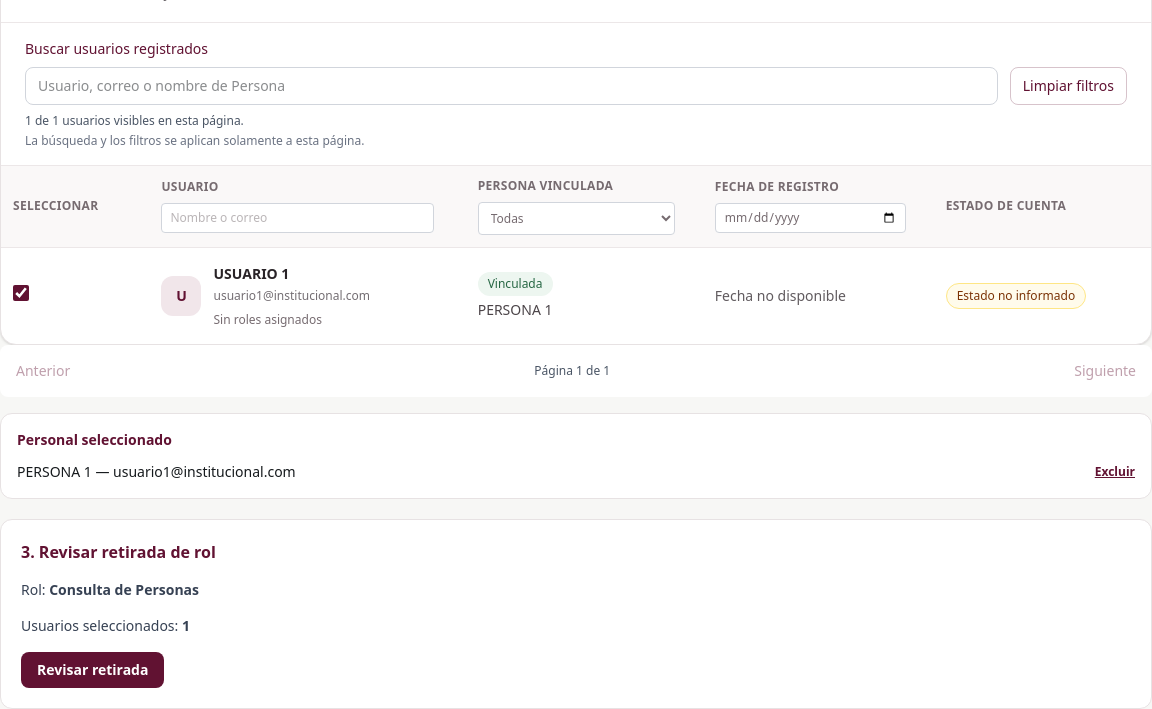
Test: BulkRoleAssignmentPageComponent › abre y cancela la confirmacion administrativa de retirada
The image size is (1152, 709).
(page scrolled)
Click the button with test id "bulk-page-open-removal-review" at (93, 670), box [21,652,164,688]
(page scrolled)
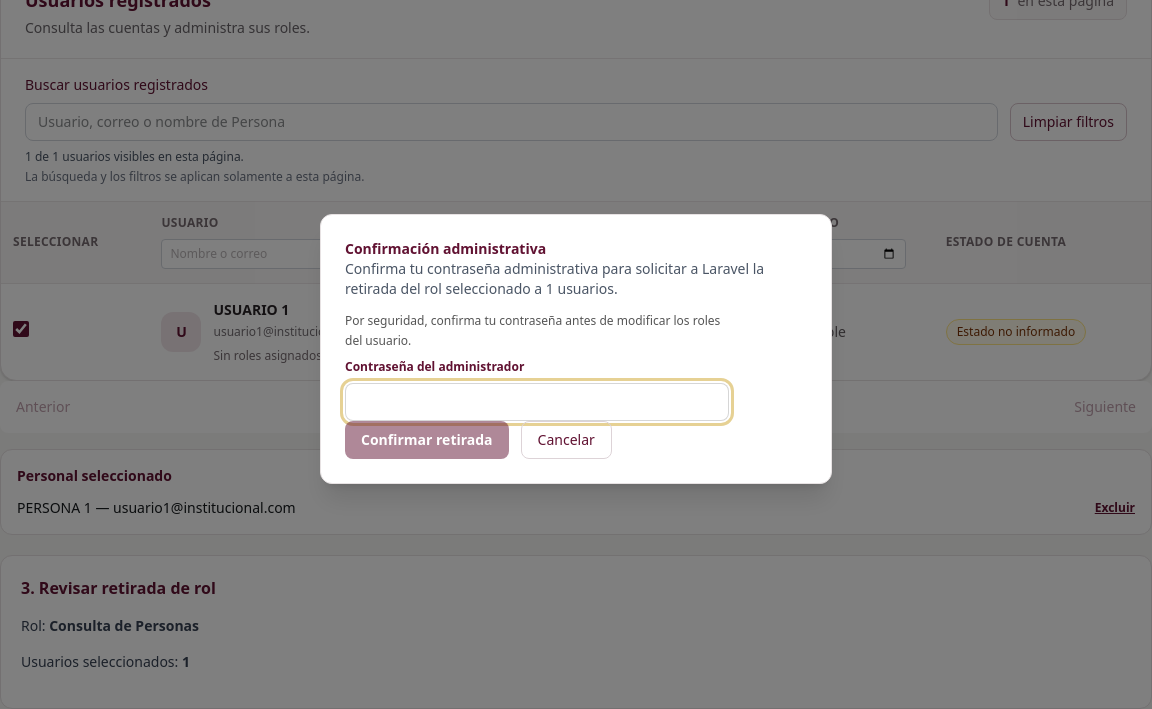
Expected: the dialog with test id "bulk-page-confirmation" is shown, [320,214,832,484]
Expected: the button with test id "bulk-page-cancel-confirmation" is shown
Click the button with test id "bulk-page-cancel-confirmation" at (566, 440), box [521,421,612,459]
(page scrolled)
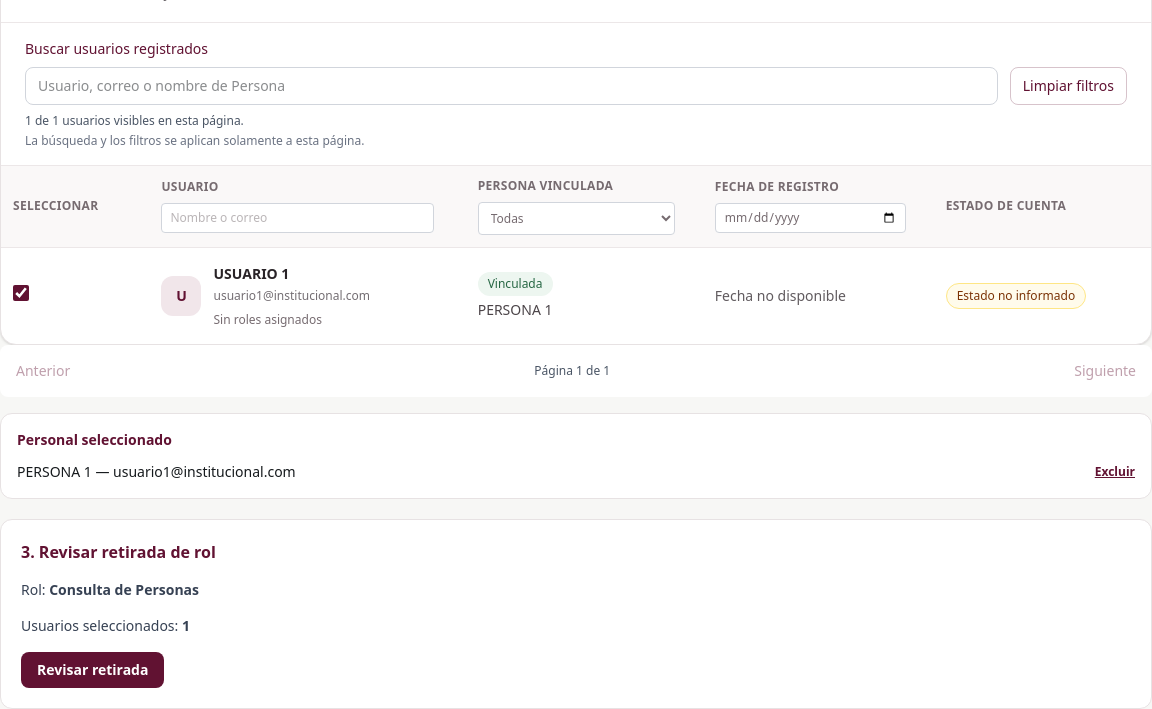
Expected: the button with test id "bulk-page-open-removal-review" is shown, [21,652,164,688]
